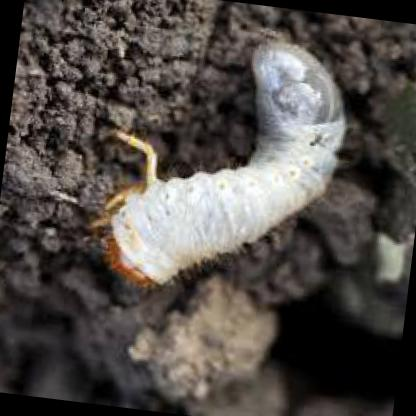root grubs: (93, 35, 344, 285)
